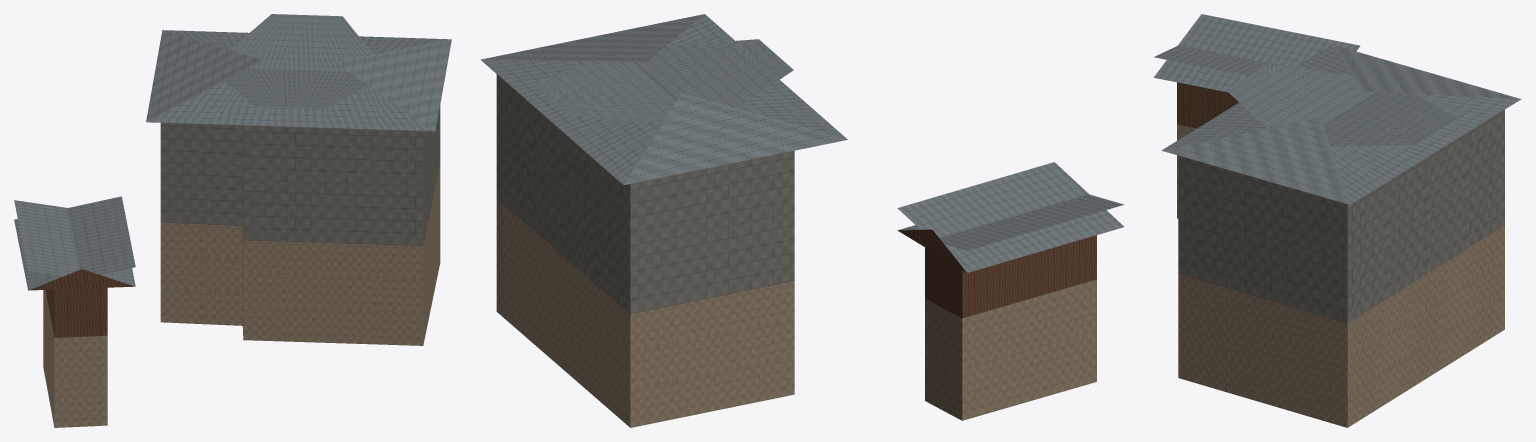
File: bld_c9_15_456.gltf
3 views of the same model, side by side, from view 1: azimuth 30°, elevation 25°; view 2: azimuth 150°, elevation 25°; view 3: azimuth 270°, elevation 25° (orthographic). The views are drawn at different scales.
Visible parts, largest first — view 1: bld_c9_15_456; view 2: bld_c9_15_456; view 3: bld_c9_15_456.
Boxes of the visible parts, bbox=[...] form: bld_c9_15_456: bbox=[14, 14, 451, 427]; bld_c9_15_456: bbox=[480, 14, 1124, 427]; bld_c9_15_456: bbox=[1153, 14, 1521, 427].
Size of the model in its own units: 26.45 by 12.3 by 16.29.
Materials: 5 (5 with a texture image).
